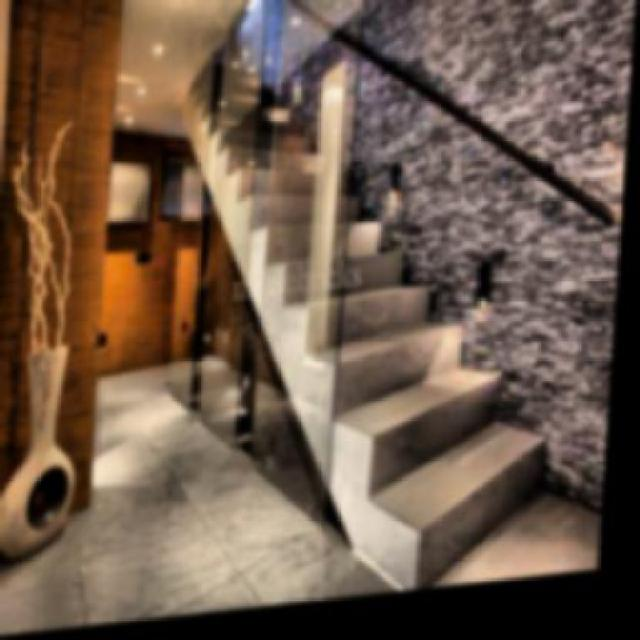stair: (165, 0, 608, 591)
